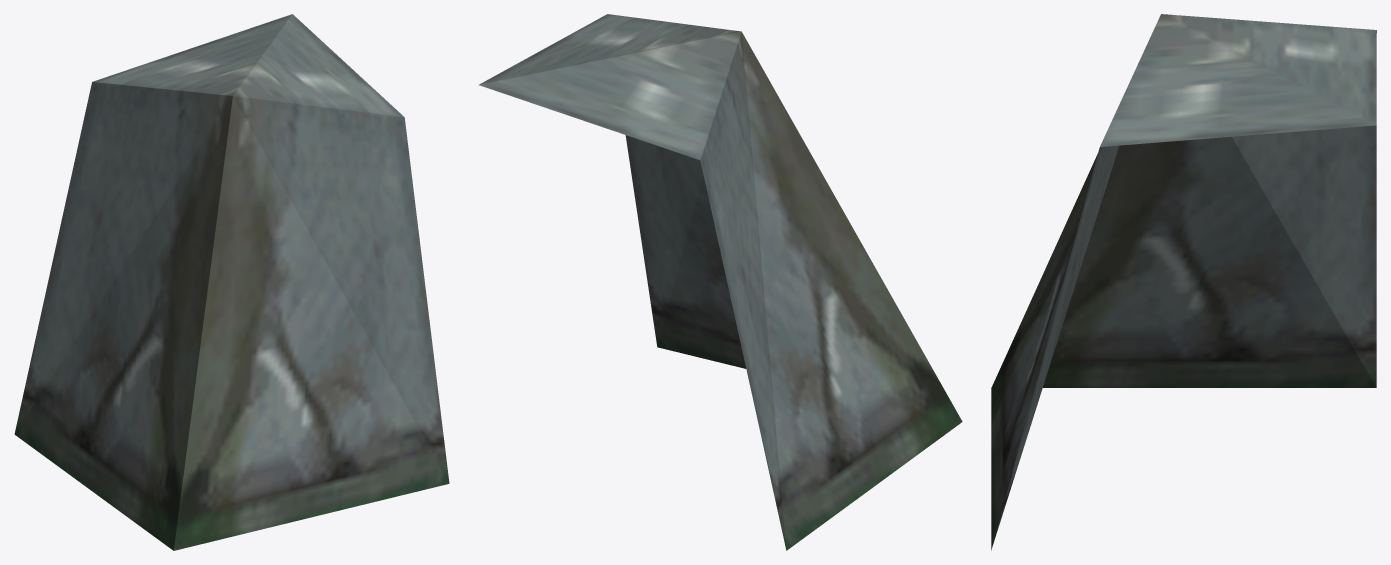
File: stemple_cap_convex_01.fbx
3 views of the same model, side by side, from view 1: azimuth 30°, elevation 25°; view 2: azimuth 150°, elevation 25°; view 3: azimuth 270°, elevation 25° (orthographic). The views are drawn at different scales.
Parts seen in each view (by area): view 1: obj0.069; view 2: obj0.069; view 3: obj0.069.
Part boxes in pixels (left/top/right/bottom): obj0.069: left=14, top=14, right=449, bottom=550; obj0.069: left=479, top=14, right=962, bottom=550; obj0.069: left=991, top=14, right=1376, bottom=550.
Bounding box in the file's own units: 0.4164 × 0.5324 × 0.4131.
